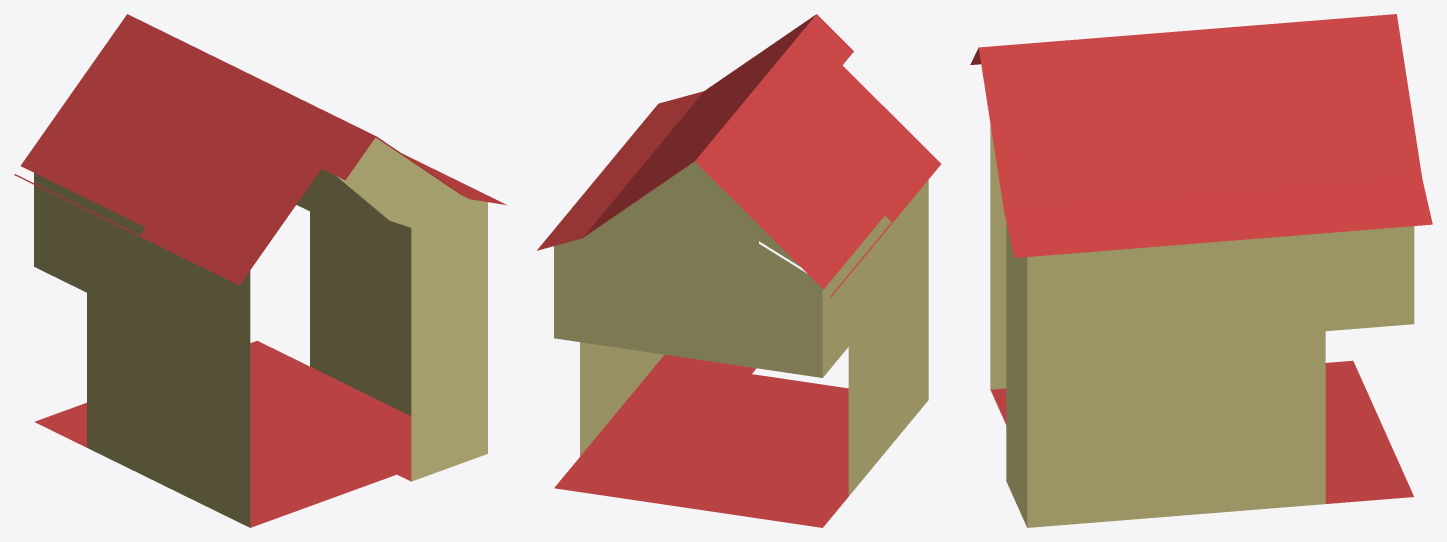
3 renders of one model, left to right at view 1: azimuth 30°, elevation 25°; view 2: azimuth 150°, elevation 25°; view 3: azimuth 270°, elevation 25°, orthographic. The views are drawn at different scales.
Bounding box in the file's own units: 13.65 × 14.59 × 14.2.
